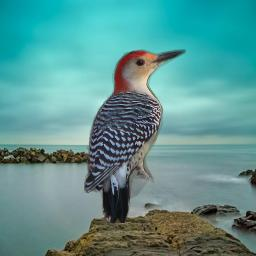Woodpecker: (84, 49, 186, 223)
